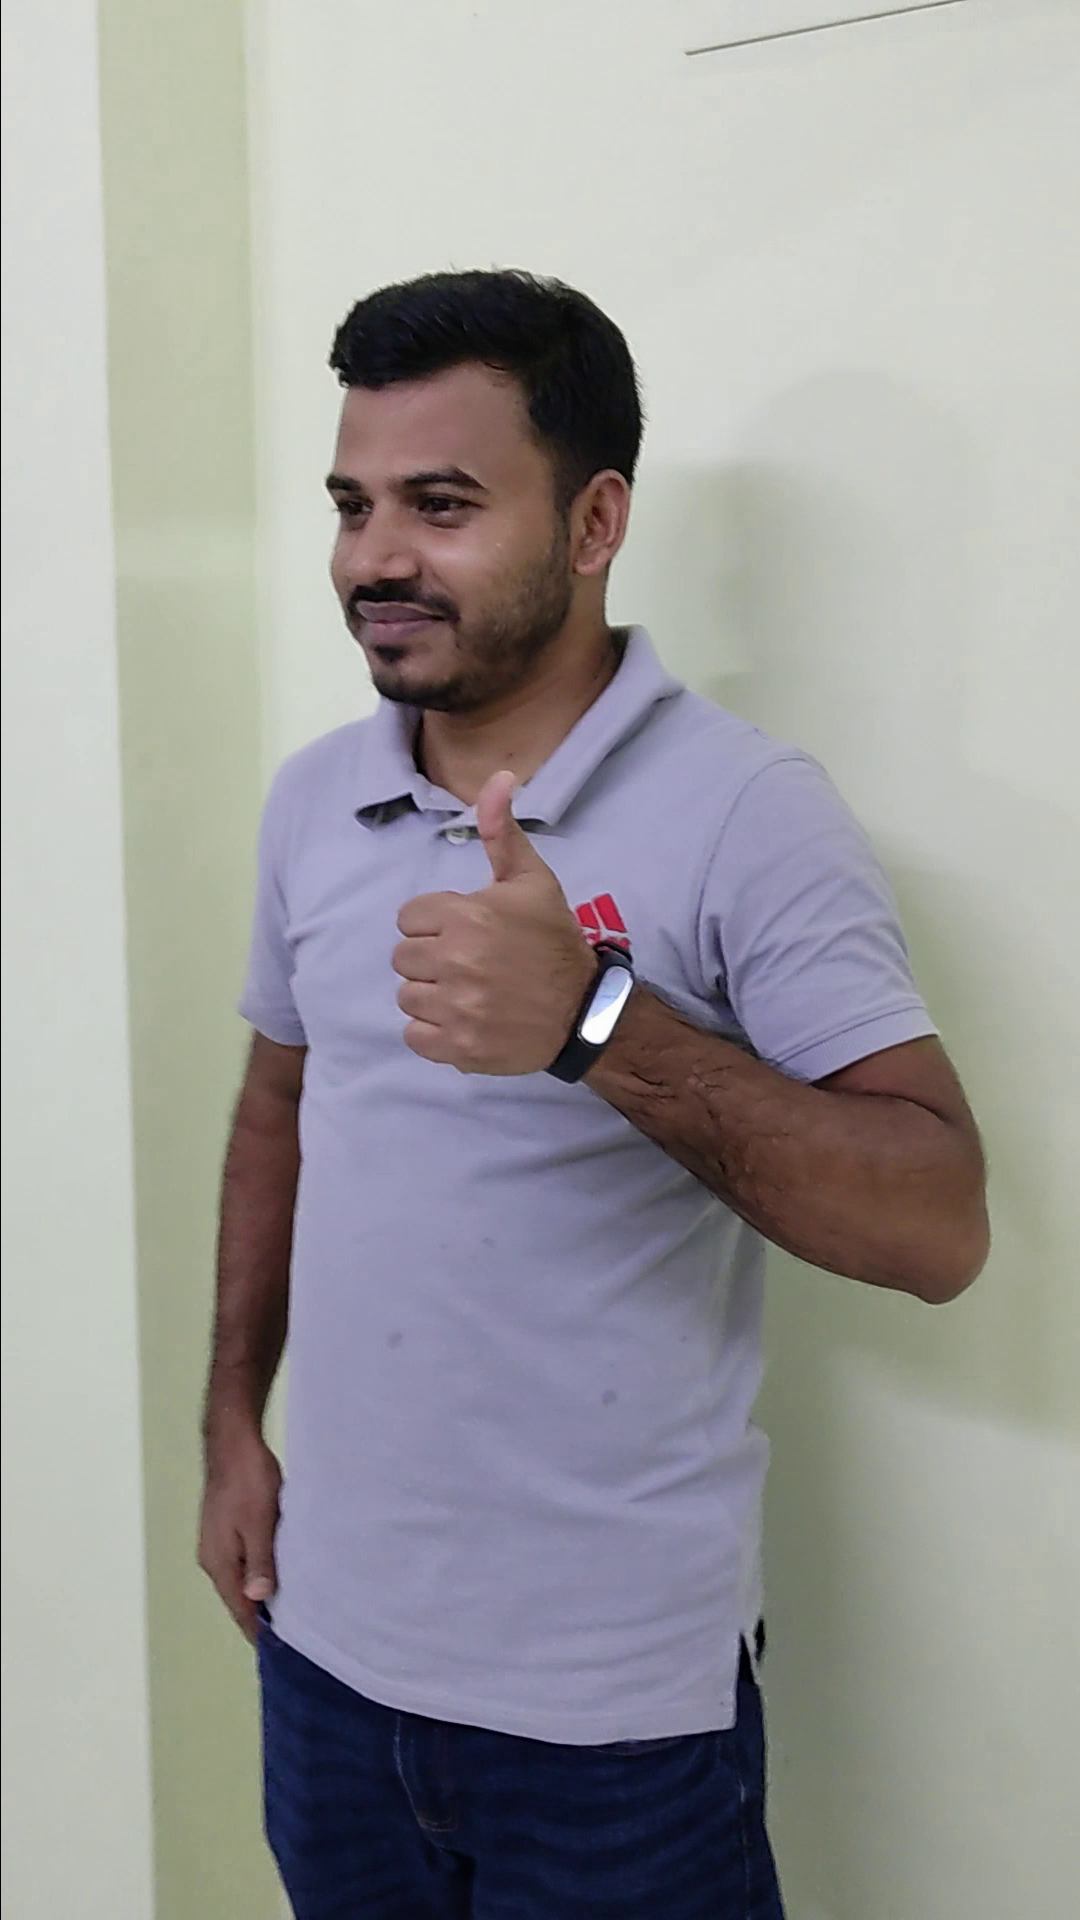Like: (377, 752, 616, 1088)
None: (167, 1381, 314, 1675)
